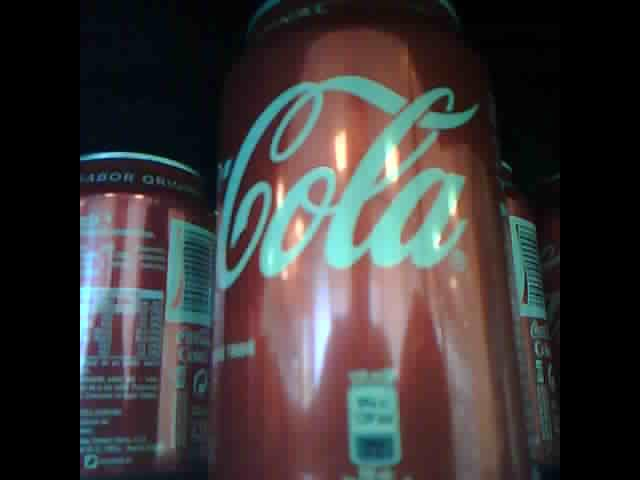coca cola: (206, 4, 502, 477), (79, 152, 208, 478), (500, 158, 557, 476)
